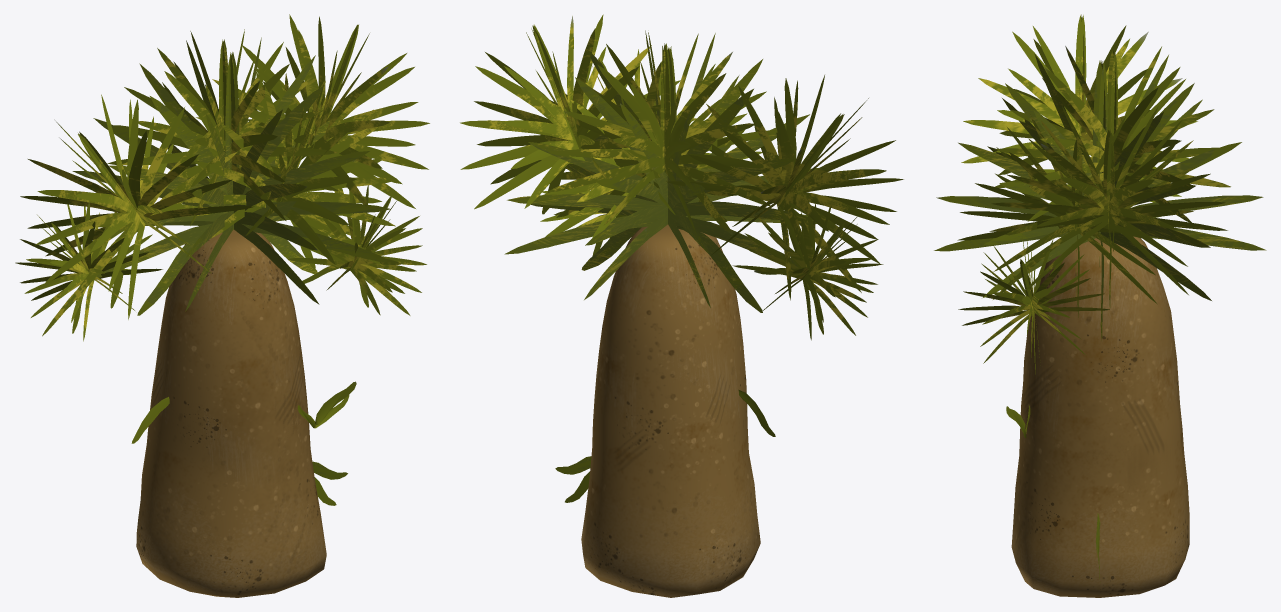
Rendered from SM_TestBush.fbx.
The picture shows the model from 3 angles, left to right: view 1: azimuth 30°, elevation 25°; view 2: azimuth 150°, elevation 25°; view 3: azimuth 270°, elevation 25°; orthographic projection.
Parts seen in each view (by area): view 1: stubby_trunk, cabbbage_tree_leaves.245, stubby_leaves; view 2: stubby_trunk, cabbbage_tree_leaves.245, stubby_leaves; view 3: stubby_trunk, cabbbage_tree_leaves.245, stubby_leaves.
Part boxes in pixels (left/top/right/bottom): stubby_trunk: left=136, top=226, right=326, bottom=597; cabbbage_tree_leaves.245: left=15, top=14, right=429, bottom=428; stubby_leaves: left=72, top=37, right=390, bottom=505; stubby_trunk: left=581, top=224, right=760, bottom=597; cabbbage_tree_leaves.245: left=460, top=14, right=903, bottom=340; stubby_leaves: left=504, top=30, right=818, bottom=502; stubby_trunk: left=1011, top=236, right=1189, bottom=597; cabbbage_tree_leaves.245: left=957, top=14, right=1230, bottom=437; stubby_leaves: left=934, top=53, right=1266, bottom=582.
Bounding box in the file's own units: 175 × 221 × 128.
